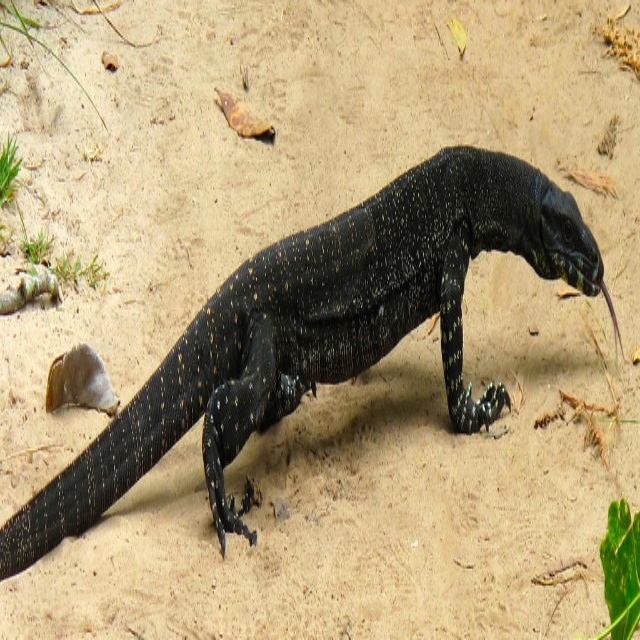Lizard: (0, 145, 625, 582)
